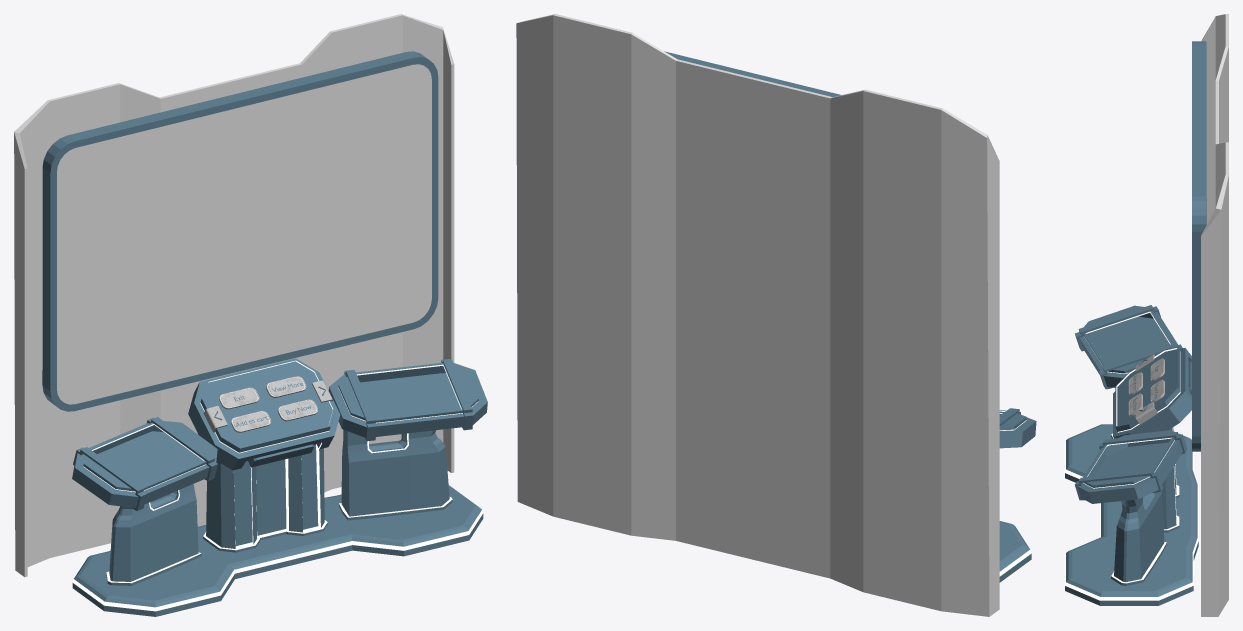
File: console.glb
The picture shows the model from 3 angles, left to right: view 1: azimuth 30°, elevation 25°; view 2: azimuth 150°, elevation 25°; view 3: azimuth 270°, elevation 25°; orthographic projection. The views are drawn at different scales.
Parts seen in each view (by area): view 1: 2D_main.001; view 2: 2D_main.001; view 3: 2D_main.001.
Part boxes in pixels (x1,y1,x2,y2): 2D_main.001: [14, 14, 487, 616]; 2D_main.001: [516, 14, 1036, 616]; 2D_main.001: [1065, 14, 1228, 616].
Bounding box in the file's own units: 3.98 × 4.04 × 1.41.
4 materials, 2 textured.
